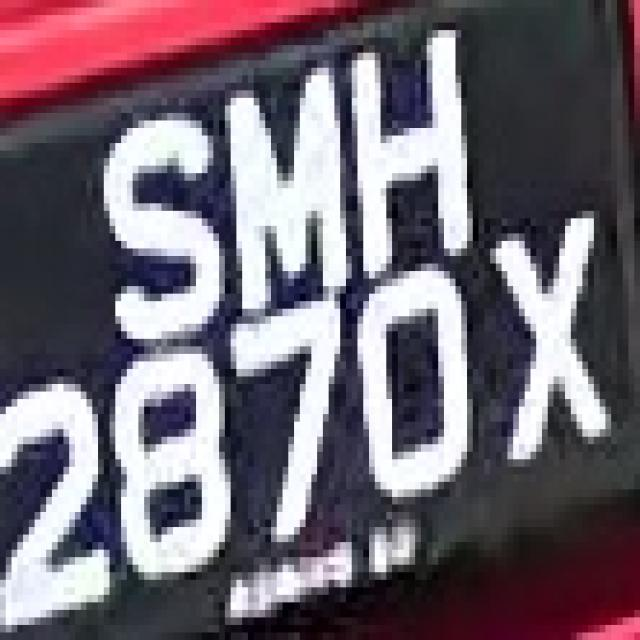0: (358, 248, 478, 520)
2: (0, 4, 1, 8)
7: (214, 294, 340, 557)
8: (108, 332, 225, 602)
C: (0, 369, 115, 640)
H: (340, 8, 479, 286)
M: (213, 60, 352, 316)
S: (81, 90, 213, 354)
X: (473, 196, 628, 482)
